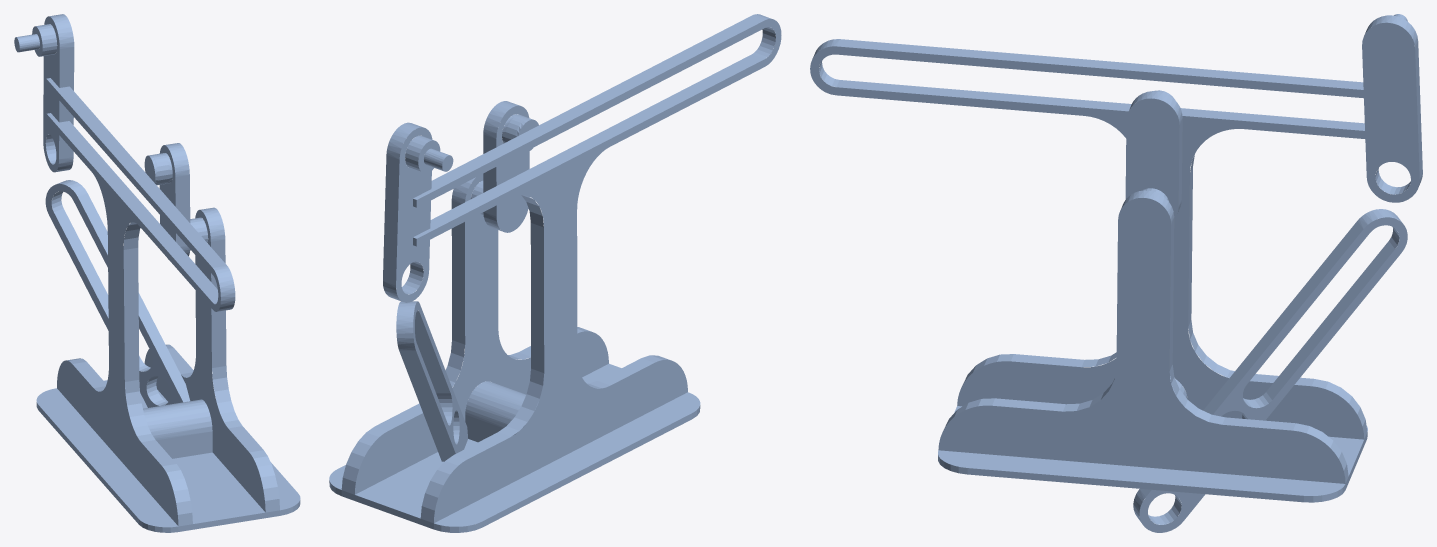
Rendered from exampleFile.json.gltf.
3 views of the same model, side by side, from view 1: azimuth 30°, elevation 25°; view 2: azimuth 150°, elevation 25°; view 3: azimuth 270°, elevation 25° (orthographic). The views are drawn at different scales.
Parts seen in each view (by area): view 1: STL_BINARY (×3); view 2: STL_BINARY (×3); view 3: STL_BINARY (×3).
Boxes of the visible parts, box(x1,y1,x2,y2) form: STL_BINARY (×3): box(14, 14, 300, 532); STL_BINARY (×3): box(329, 14, 781, 532); STL_BINARY (×3): box(810, 14, 1422, 532).
Bounding box in the file's own units: 7.1 × 14.84 × 17.05.
